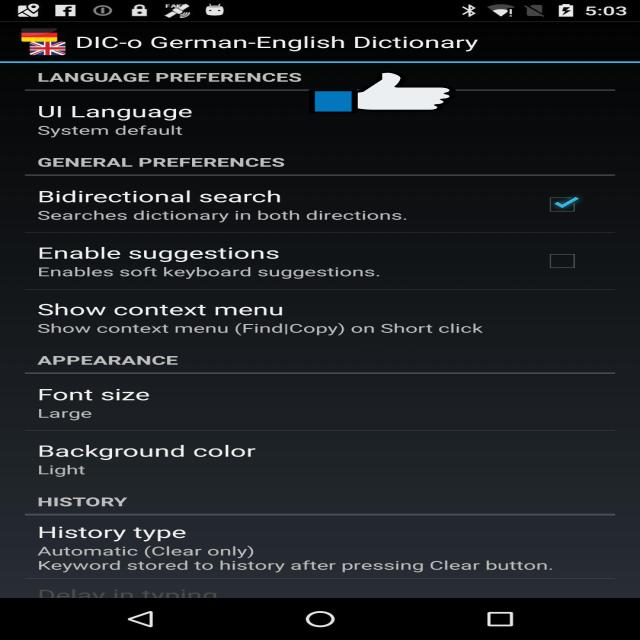privacy zuckering: (308, 70, 456, 114)
